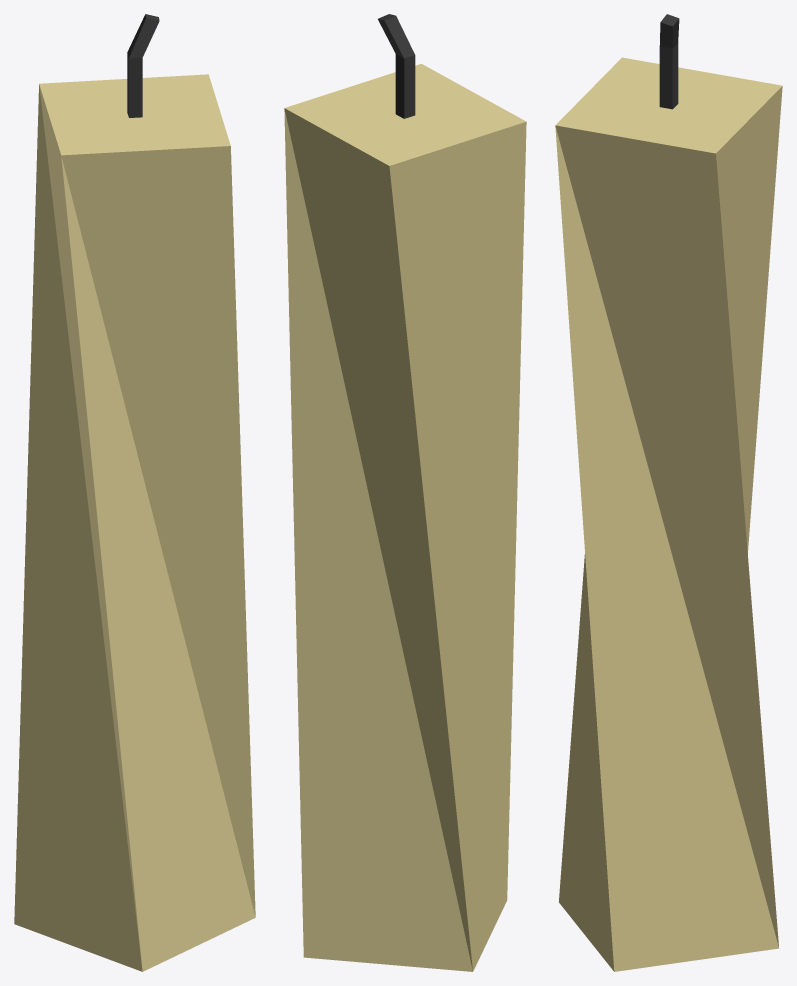
File: item_candle.fbx
The picture shows the model from 3 angles, left to right: view 1: azimuth 30°, elevation 25°; view 2: azimuth 150°, elevation 25°; view 3: azimuth 270°, elevation 25°; orthographic projection.
Parts seen in each view (by area): view 1: item_candle; view 2: item_candle; view 3: item_candle.
Boxes of the visible parts, left/top/right/bottom form: item_candle: left=14, top=14, right=255, bottom=971; item_candle: left=284, top=14, right=526, bottom=971; item_candle: left=555, top=14, right=782, bottom=971.
Bounding box in the file's own units: 114 × 508 × 114.
